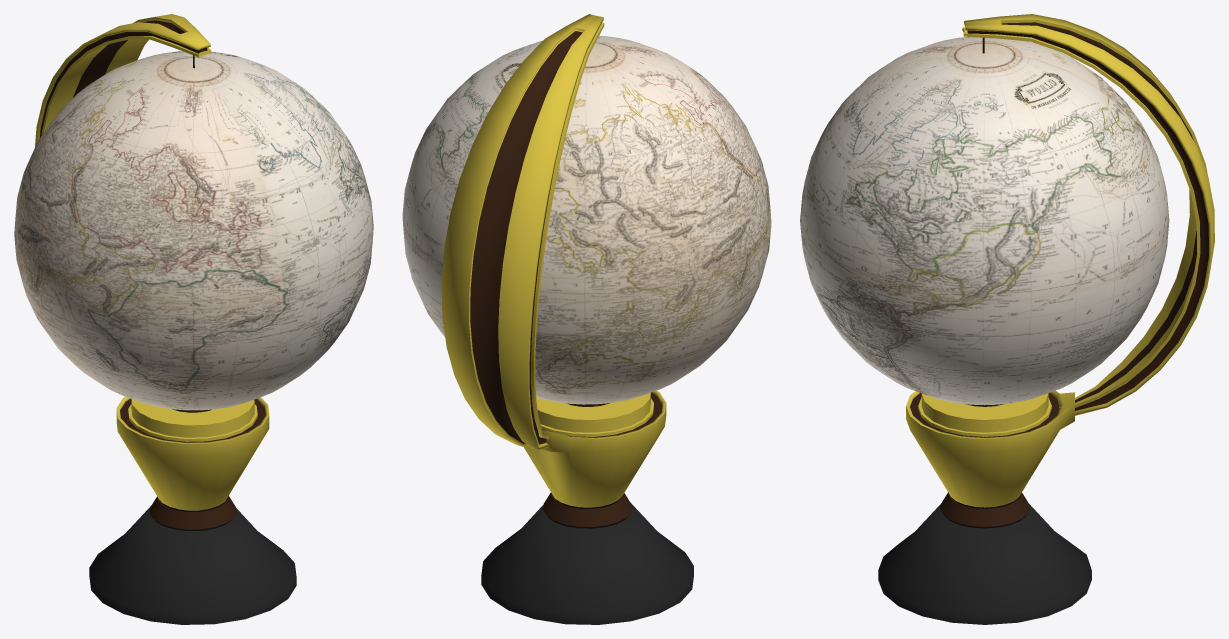
File: Globe.FBX
The picture shows the model from 3 angles, left to right: view 1: azimuth 30°, elevation 25°; view 2: azimuth 150°, elevation 25°; view 3: azimuth 270°, elevation 25°; orthographic projection. The views are drawn at different scales.
Parts seen in each view (by area): view 1: Globo; view 2: Globo; view 3: Globo.
Part boxes in pixels (<box>): Globo: <box>14,14,373,624</box>; Globo: <box>402,14,771,624</box>; Globo: <box>800,14,1214,624</box>.
Size of the model in its own units: 20.79 by 34.59 by 23.35.
5 materials, 1 textured.
